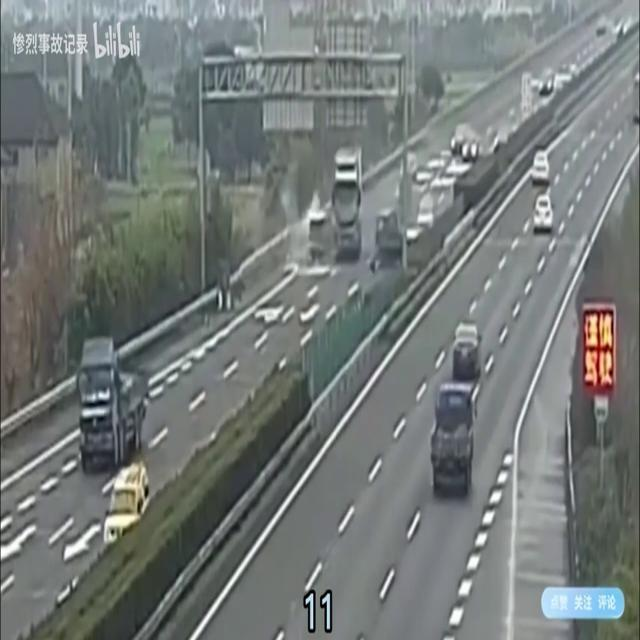normal: (295, 175, 436, 288)
